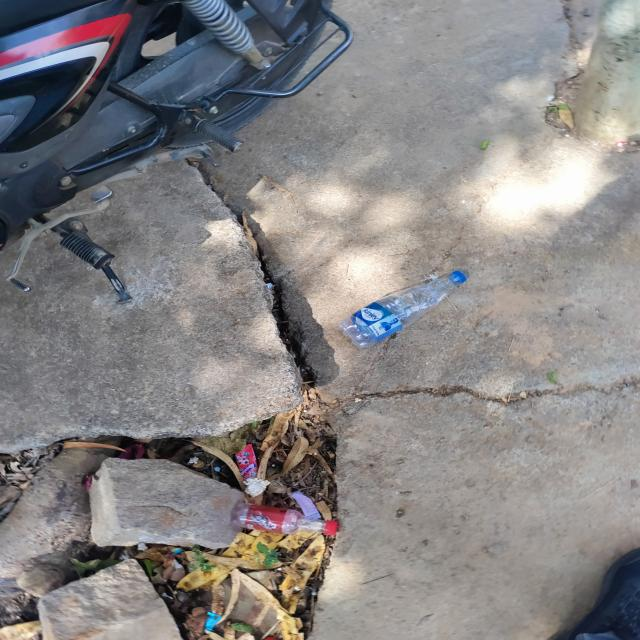plastic: (338, 270, 466, 348), (231, 502, 337, 536)
